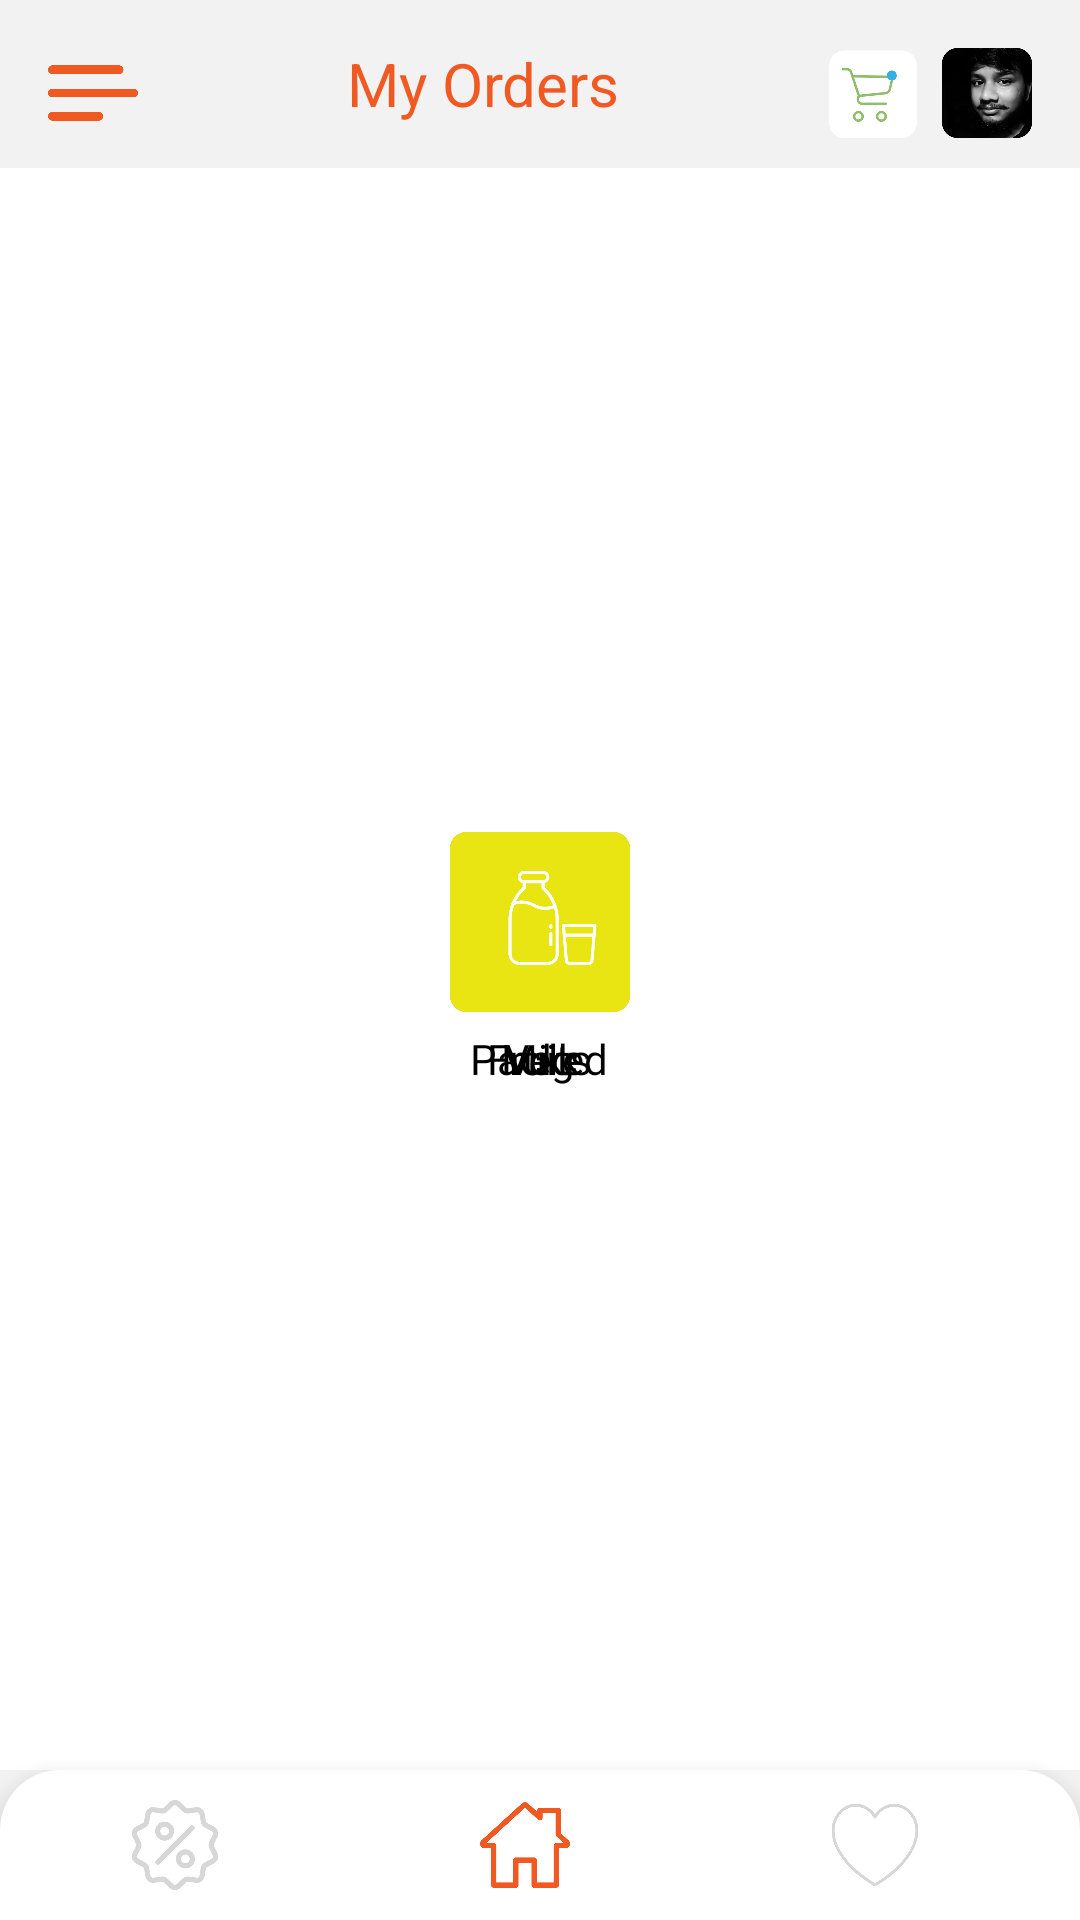

Named icons in this screenshot (1080x1920) and their centers, point (x, y):
heart: point (875, 1845)
home one: point (525, 1845)
